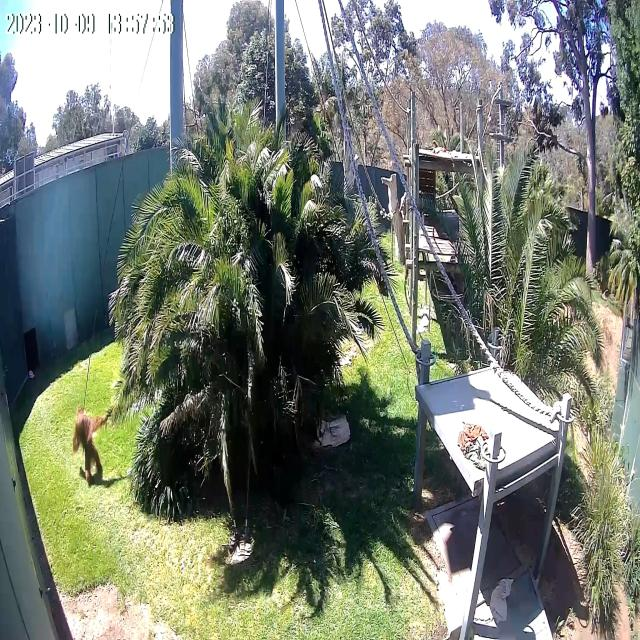orangutan: (72, 404, 109, 487)
